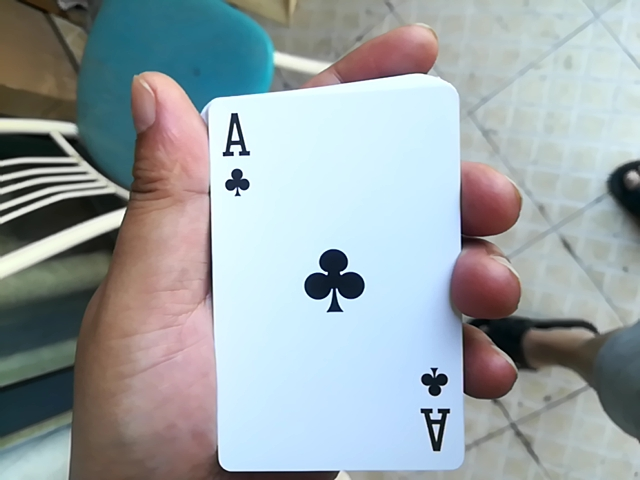mh a: (194, 56, 448, 474)
